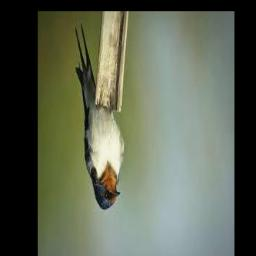Swallow: (74, 23, 125, 209)
